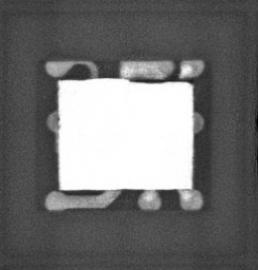DIE_BROKEN: (127, 76, 195, 85)
